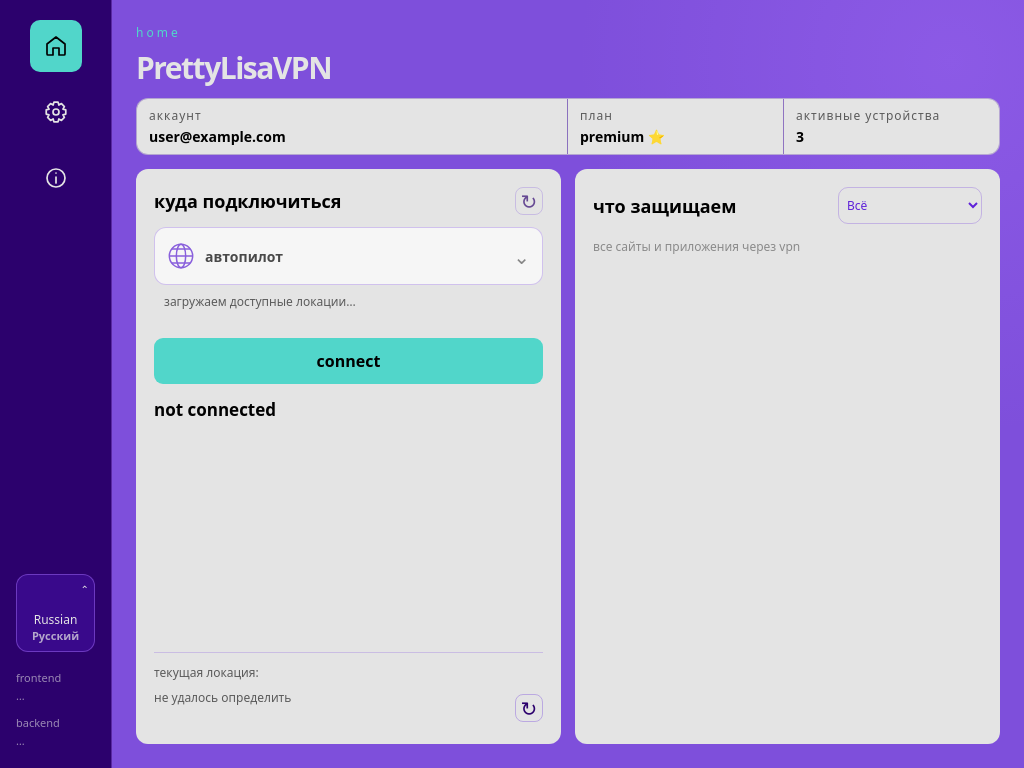
Scenario: authenticated Home › navigates to the Devices section
This screenshot has width=1024, height=768.
Click the link named "настройки" at [56, 112], box [44,100,68,124]
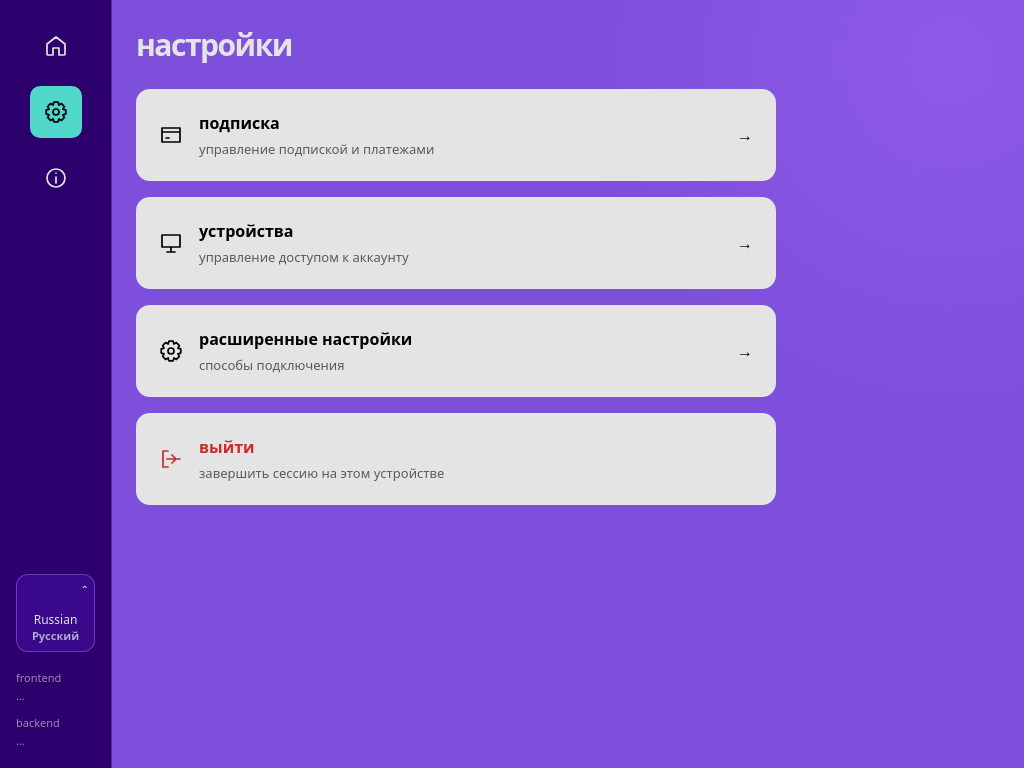
Click the link "устройства Управление доступом к аккаунту →" at [246, 231], box [136,197,776,289]
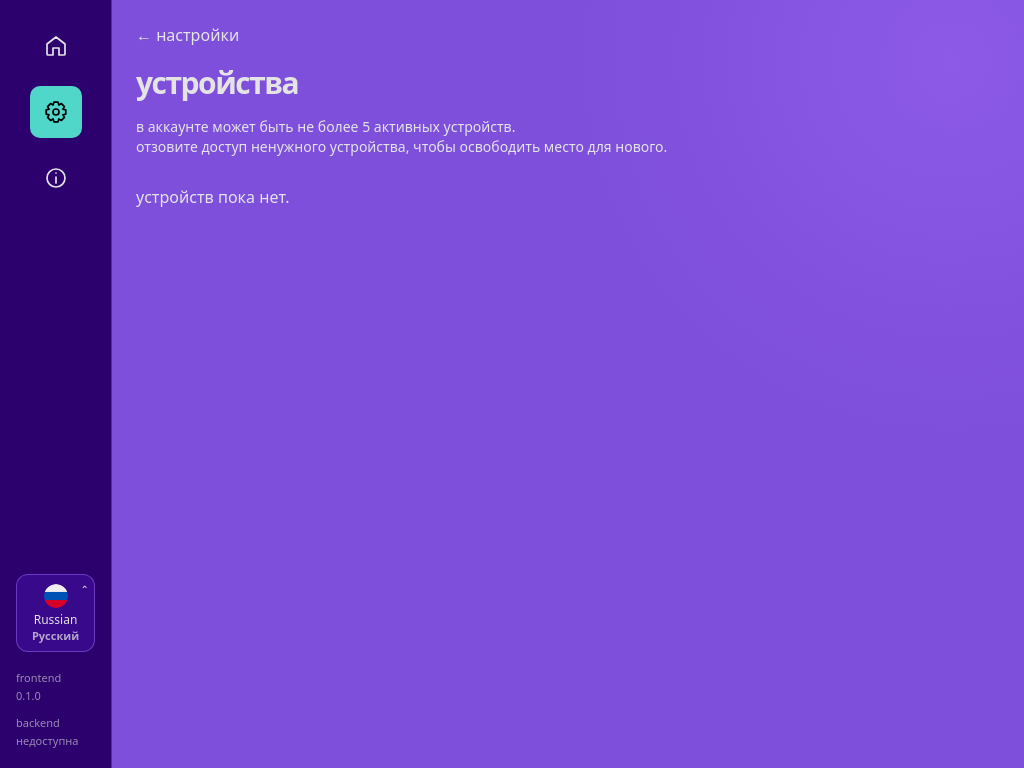
Expected: the heading "устройства" is shown, [136,62,298,103]
